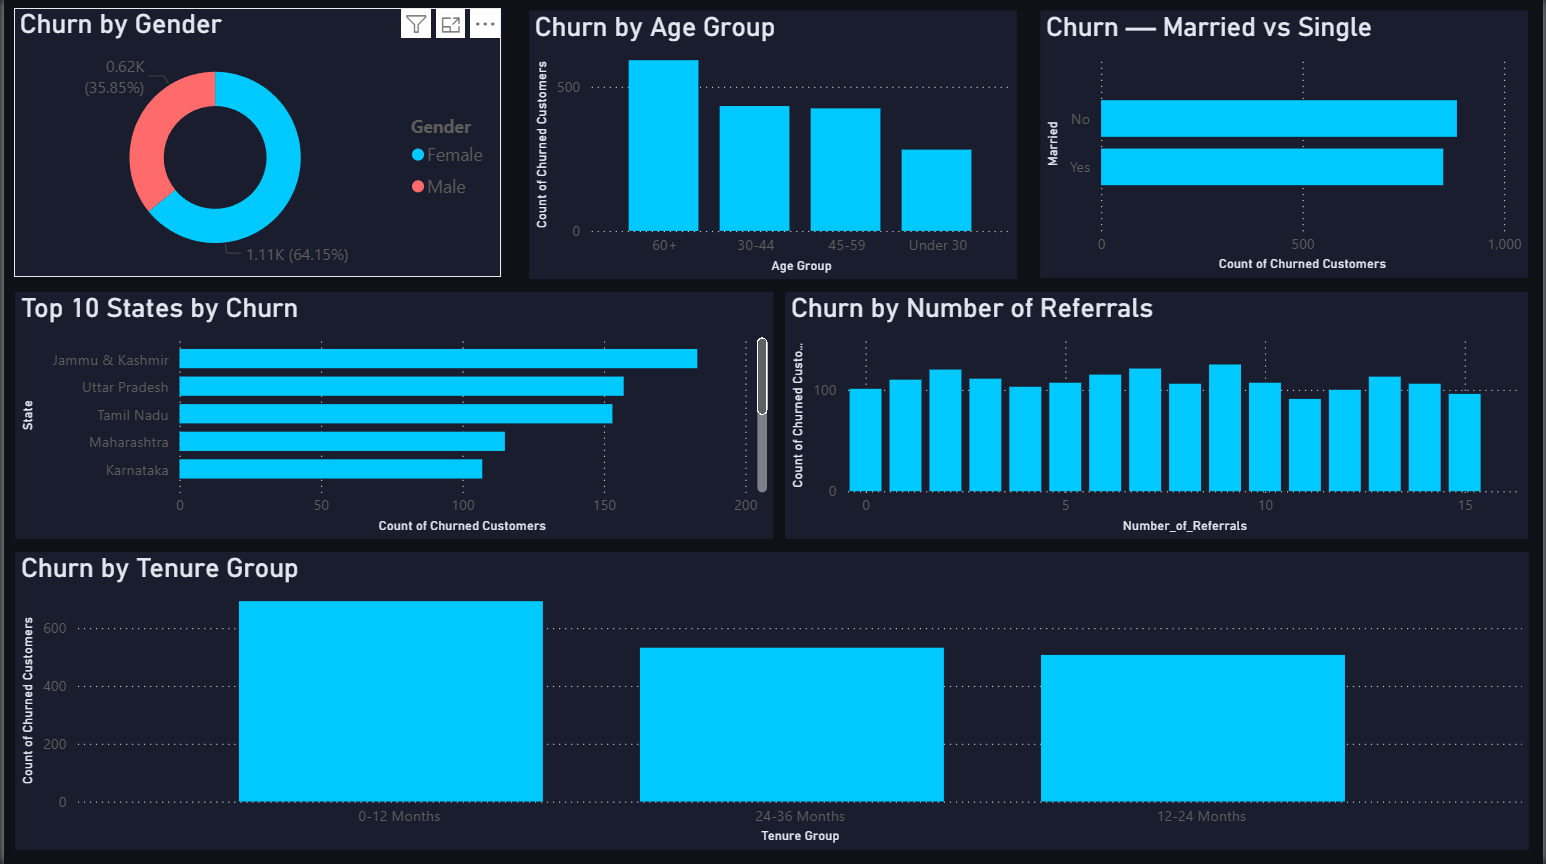

This screenshot's page, from the dashboard's own definition file:
{"tool":"powerbi","page":{"name":"Demographics","canvas":[1280,720],"ordinal":2},"visuals":[{"type":"donutChart","title":"Churn by Gender","fields":{"Category":["churn_db cleaned_churn.Gender"],"Y":["CountNonNull(churn_db cleaned_churn.Churned Customers)"]},"box":[8.1,8.1,405.8,223.3],"z":0},{"type":"clusteredColumnChart","title":"Churn by Age Group","fields":{"Category":["churn_db cleaned_churn.Age Group"],"Y":["CountNonNull(churn_db cleaned_churn.Churned Customers)"]},"box":[436,10.5,405.8,223.3],"z":1000},{"type":"clusteredBarChart","title":"Churn — Married vs Single","fields":{"Category":["churn_db cleaned_churn.Married"],"Y":["CountNonNull(churn_db cleaned_churn.Churned Customers)"]},"box":[861.6,10.5,405.8,222.1],"z":2000},{"type":"clusteredBarChart","title":"Top 10 States by Churn","fields":{"Category":["churn_db cleaned_churn.State"],"Y":["CountNonNull(churn_db cleaned_churn.Churned Customers)"]},"box":[9.3,244.2,630.2,205.8],"z":3000},{"type":"columnChart","title":"Churn by Number of Referrals","fields":{"Category":["churn_db cleaned_churn.Number_of_Referrals"],"Y":["CountNonNull(churn_db cleaned_churn.Churned Customers)"]},"box":[650,244.2,617.4,205.8],"z":4000},{"type":"columnChart","title":"Churn by Tenure Group","fields":{"Category":["churn_db cleaned_churn.Tenure Group"],"Y":["CountNonNull(churn_db cleaned_churn.Churned Customers)"]},"box":[9.3,460.5,1258.1,247.7],"z":5000}]}

Visuals, with their boxes in screenshot pixels (x1, y1, x2, y2), scaled from the page's 1280x720 canvas onto the 1546x864 screenshot:
"Churn by Gender" donutChart: locate(10, 10, 500, 278)
"Churn by Age Group" clusteredColumnChart: locate(527, 13, 1017, 281)
"Churn — Married vs Single" clusteredBarChart: locate(1041, 13, 1531, 279)
"Top 10 States by Churn" clusteredBarChart: locate(11, 293, 772, 540)
"Churn by Number of Referrals" columnChart: locate(785, 293, 1531, 540)
"Churn by Tenure Group" columnChart: locate(11, 553, 1531, 850)
